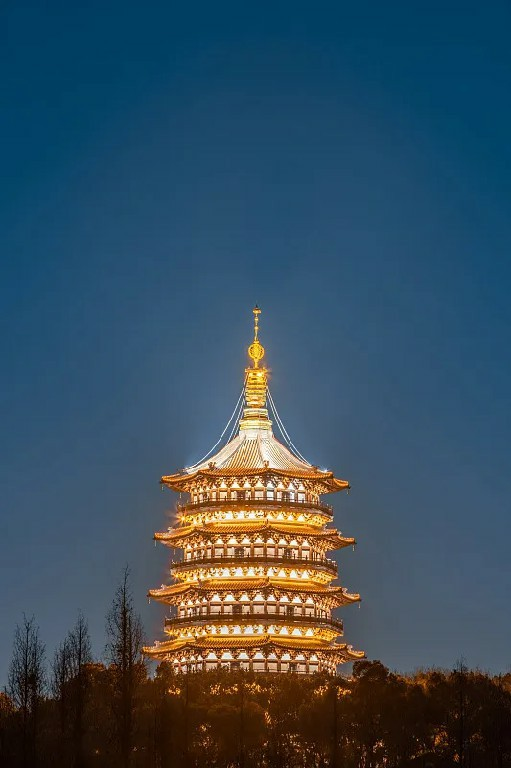Leifeng: (138, 304, 365, 698)
